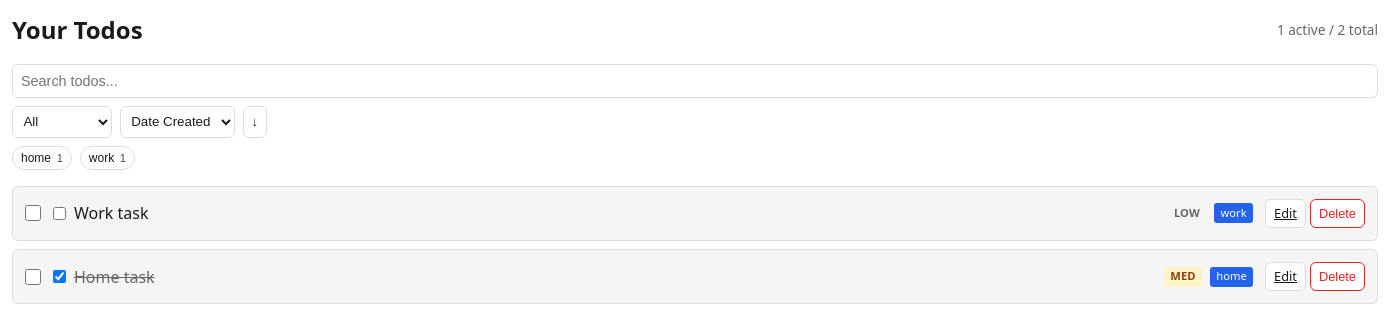
Test: TodoListPage › filters by selected tags
This screenshot has width=1390, height=321.
Click the button "work 1" at point(108, 158), box x1=80 y1=146 x2=135 y2=170
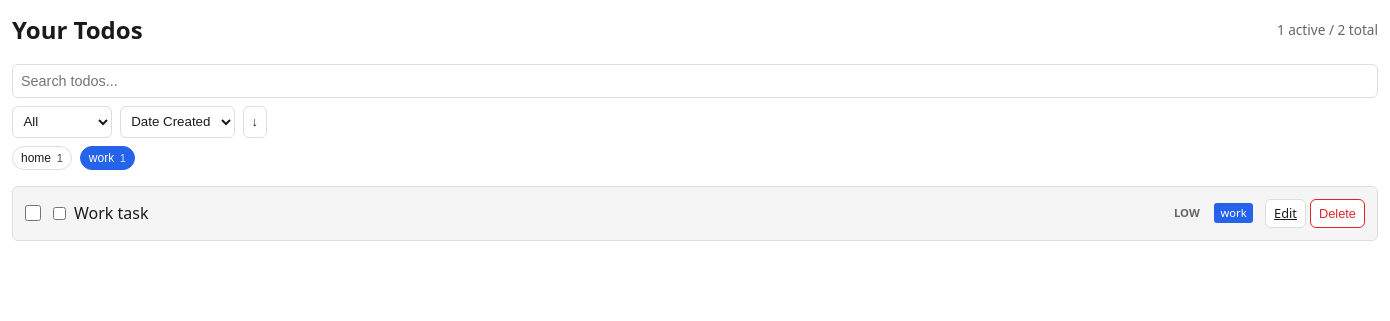
Expected: the text "Work task" is shown, x1=74 y1=201 x2=148 y2=225
Now the text "Home task" is gone
